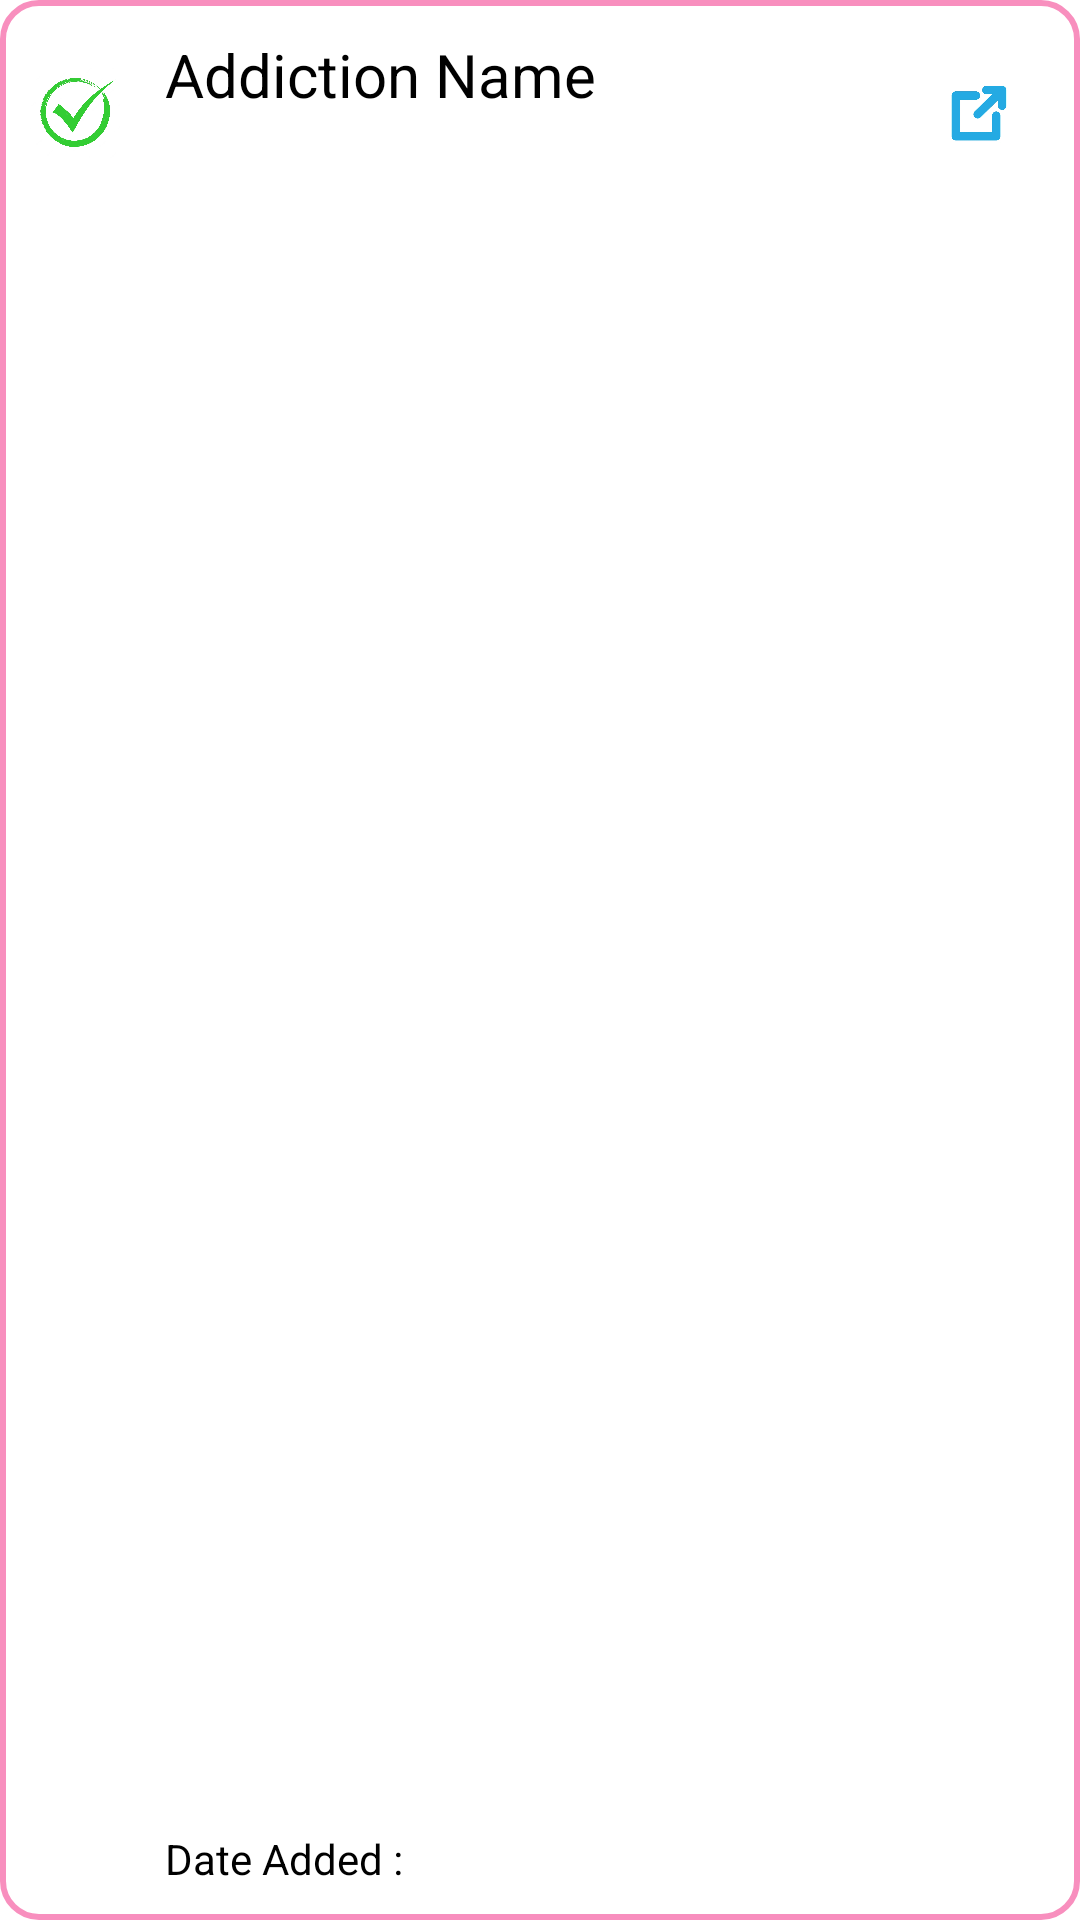

Where icons sit on this 1080 x 1920 app screen, as [x1, y1, x2, y2]:
tick: [40, 78, 113, 147]
